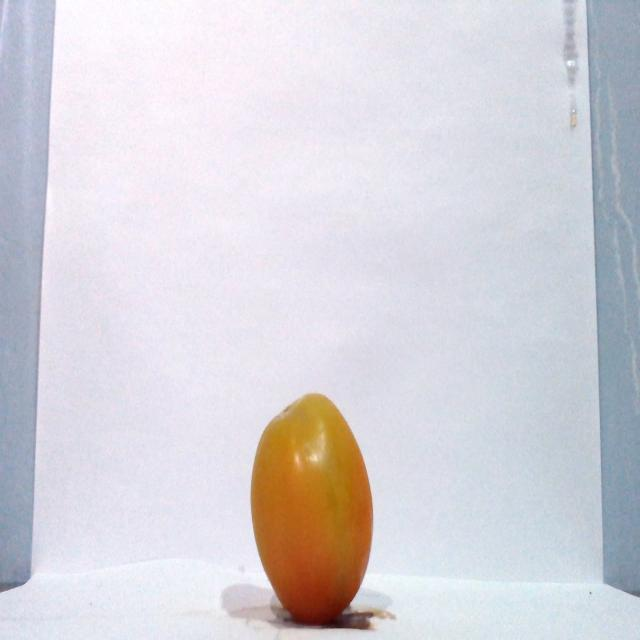Red: (248, 391, 374, 625)
